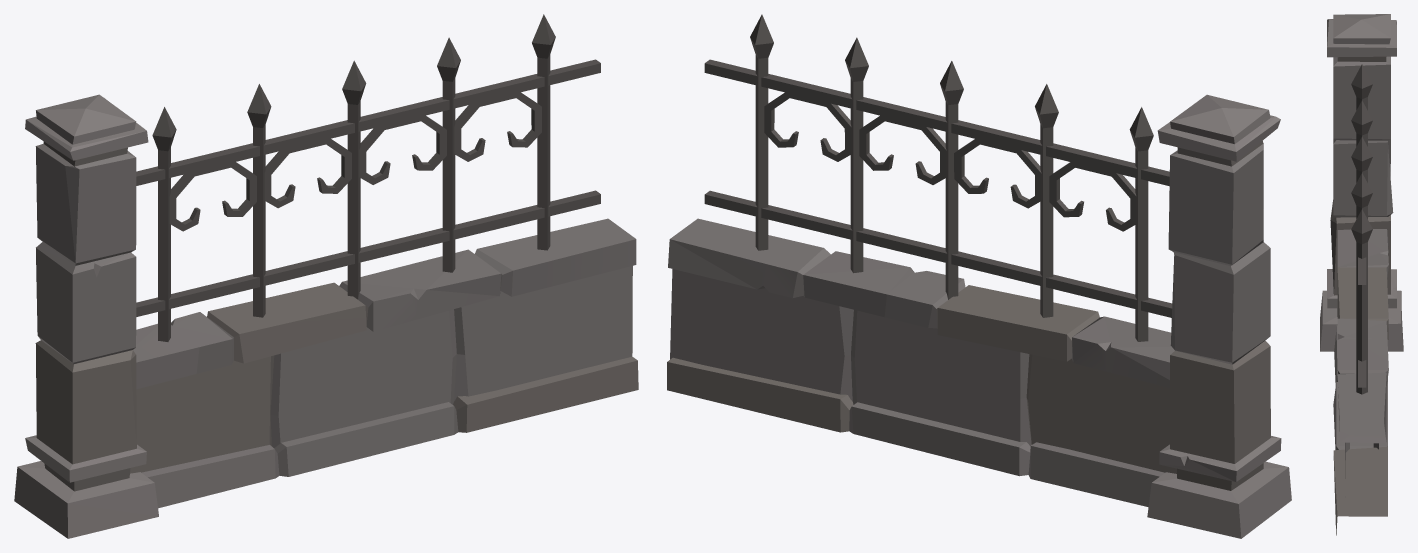
File: Wall.fbx
3 renders of one model, left to right at view 1: azimuth 30°, elevation 25°; view 2: azimuth 150°, elevation 25°; view 3: azimuth 270°, elevation 25°, orthographic. The views are drawn at different scales.
Parts seen in each view (by area): view 1: wall_graveyard_2m__1_; view 2: wall_graveyard_2m__1_; view 3: wall_graveyard_2m__1_.
Part boxes in pixels (x1,y1,x2,y2): wall_graveyard_2m__1_: (14,14,638,538); wall_graveyard_2m__1_: (667,14,1291,538); wall_graveyard_2m__1_: (1320,14,1403,535).
Size of the model in its own units: 219 by 143 by 34.5.
